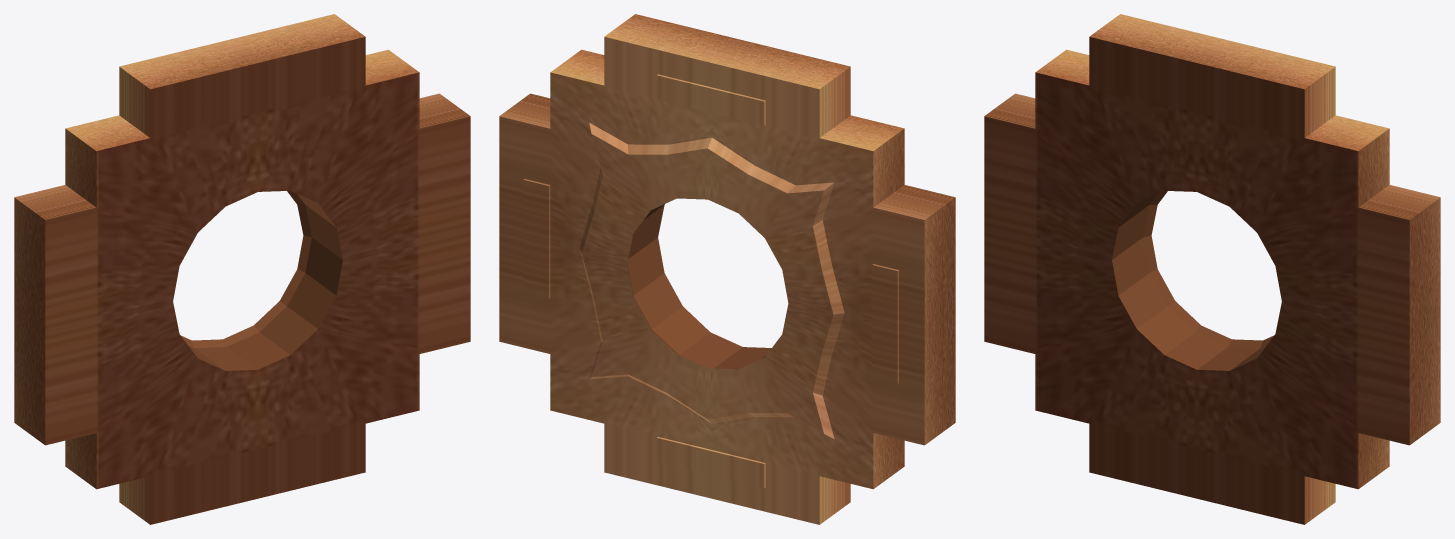
File: Chacana.glb
3 renders of one model, left to right at view 1: azimuth 30°, elevation 25°; view 2: azimuth 150°, elevation 25°; view 3: azimuth 330°, elevation 25°, orthographic.
Parts seen in each view (by area): view 1: Chacana; view 2: Chacana; view 3: Chacana.
Part boxes in pixels (left/top/right/bottom): Chacana: left=14, top=14, right=470, bottom=524; Chacana: left=499, top=14, right=955, bottom=524; Chacana: left=984, top=14, right=1440, bottom=524.
Bounding box in the file's own units: 0.0769 × 0.0753 × 0.0111.
1 material, 1 textured.
